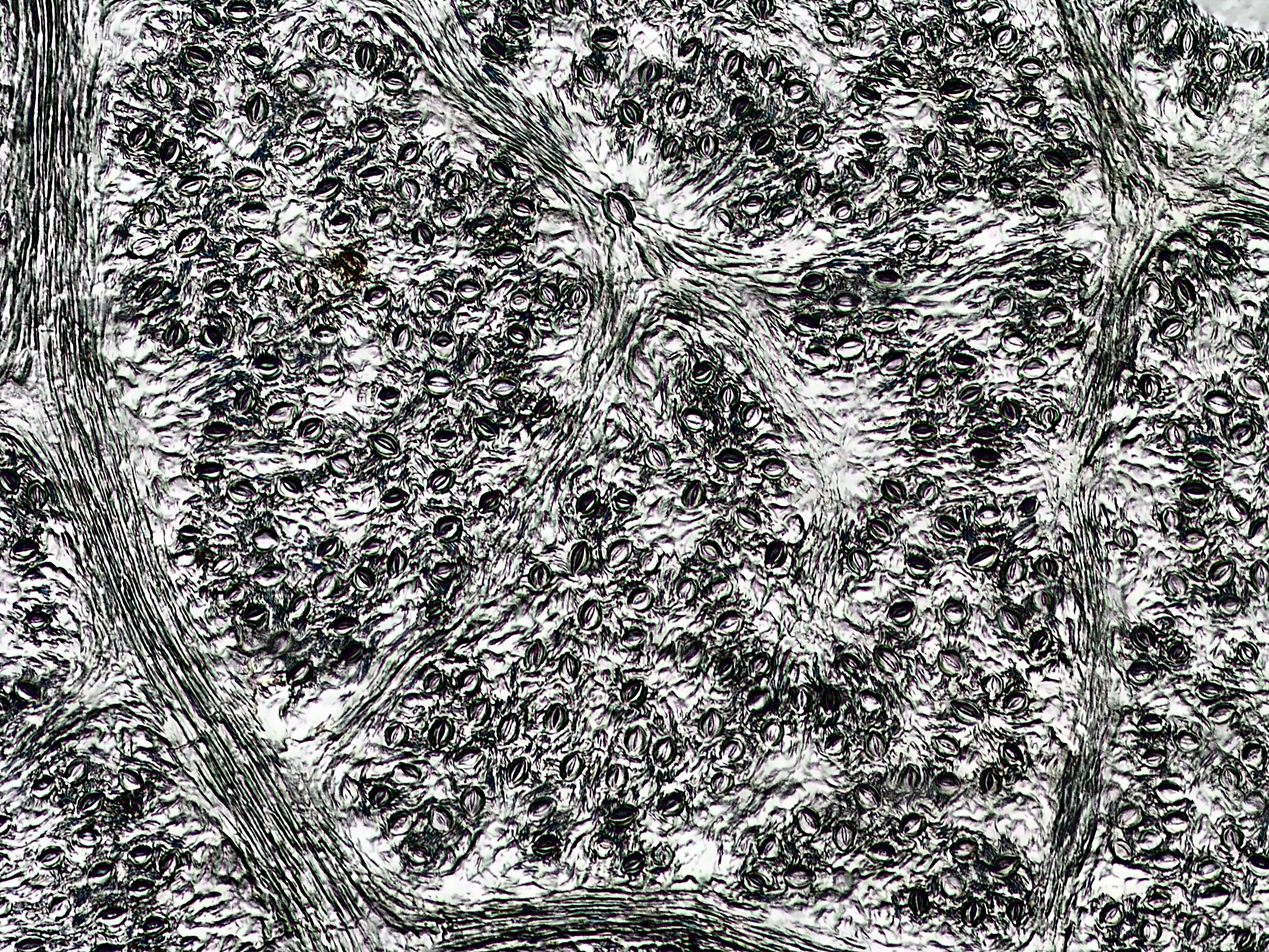stomata: (602, 190, 635, 227), (174, 228, 207, 257), (950, 698, 985, 725), (1202, 390, 1236, 417), (566, 541, 593, 575), (698, 706, 725, 740), (365, 434, 401, 459), (1153, 779, 1186, 806), (714, 446, 747, 473), (1238, 372, 1269, 400), (251, 354, 283, 381), (422, 372, 455, 398), (460, 785, 486, 818), (873, 645, 902, 674), (433, 516, 463, 544), (63, 754, 89, 786), (559, 750, 585, 782), (939, 78, 975, 101), (245, 93, 270, 126), (966, 545, 999, 570), (428, 717, 453, 750), (231, 168, 265, 192), (828, 293, 865, 315), (251, 564, 288, 586), (239, 42, 268, 70), (795, 123, 824, 151), (1183, 917, 1212, 945), (642, 443, 672, 470), (527, 795, 557, 822), (666, 87, 692, 118), (543, 702, 569, 733), (1038, 150, 1071, 174), (1171, 275, 1195, 308), (578, 597, 602, 630), (605, 538, 632, 567), (524, 638, 547, 672), (1032, 193, 1063, 218), (1126, 660, 1157, 685), (681, 479, 706, 510), (651, 736, 676, 767), (998, 606, 1023, 637), (1176, 23, 1198, 58), (356, 117, 388, 141), (976, 138, 1008, 162), (488, 376, 520, 400), (282, 142, 315, 165), (1030, 626, 1053, 659), (138, 202, 165, 230), (887, 600, 915, 627), (266, 630, 294, 657), (852, 783, 880, 810), (191, 4, 220, 30), (146, 70, 172, 99), (617, 98, 643, 127), (1230, 331, 1259, 357), (313, 570, 339, 599), (621, 679, 647, 708), (1208, 241, 1238, 266), (1181, 482, 1211, 507), (905, 555, 935, 580), (494, 243, 524, 268), (426, 469, 456, 494), (714, 609, 744, 634), (991, 854, 1021, 879), (1039, 304, 1070, 328), (25, 479, 49, 510), (1194, 679, 1226, 702), (496, 713, 519, 745), (506, 756, 529, 788), (940, 599, 968, 625), (1187, 449, 1220, 471), (796, 170, 821, 199), (1241, 742, 1266, 771), (380, 487, 409, 512), (893, 174, 923, 198), (835, 336, 865, 360), (1161, 810, 1191, 834), (1201, 886, 1231, 910), (923, 131, 946, 162), (1015, 95, 1046, 118), (228, 481, 259, 504), (624, 723, 647, 754), (784, 866, 815, 889), (1017, 357, 1049, 379), (750, 129, 776, 156), (1164, 421, 1190, 448), (1098, 901, 1125, 927), (611, 487, 637, 514), (938, 650, 965, 676), (992, 23, 1017, 51), (1210, 560, 1235, 588), (163, 322, 188, 350), (688, 361, 716, 386), (846, 547, 871, 575), (252, 528, 280, 553), (760, 718, 785, 746), (1241, 41, 1265, 70), (880, 351, 909, 375), (532, 834, 561, 858), (979, 769, 1003, 798), (818, 21, 848, 44), (1179, 529, 1209, 552), (453, 747, 483, 770), (238, 201, 269, 223), (134, 278, 165, 300), (34, 846, 65, 868), (394, 176, 420, 202), (480, 35, 507, 60), (636, 60, 663, 85), (899, 29, 926, 54), (1163, 571, 1188, 598), (1195, 858, 1222, 883), (681, 407, 708, 432), (428, 806, 453, 833), (998, 742, 1025, 767), (695, 130, 719, 158), (1207, 47, 1231, 75), (1173, 728, 1201, 752), (248, 316, 276, 340), (276, 475, 304, 499), (328, 454, 356, 478), (86, 861, 114, 885), (961, 898, 985, 926), (796, 808, 820, 836), (977, 2, 1006, 25), (1015, 56, 1044, 79), (1116, 806, 1145, 829), (759, 457, 788, 480), (764, 540, 787, 569), (467, 697, 490, 726), (833, 822, 856, 851), (311, 178, 341, 200), (722, 50, 744, 80), (232, 239, 262, 261), (872, 269, 903, 290), (559, 652, 580, 683), (866, 518, 891, 544), (1129, 625, 1155, 650), (250, 267, 276, 292), (198, 324, 223, 350), (466, 349, 492, 374), (298, 417, 324, 442), (287, 659, 312, 685), (387, 810, 413, 835), (745, 689, 771, 714), (189, 97, 216, 121), (288, 68, 315, 92), (354, 42, 378, 69), (829, 200, 856, 224), (473, 416, 500, 440), (30, 775, 57, 799), (478, 488, 505, 512), (627, 588, 654, 612), (934, 771, 961, 795), (678, 36, 701, 64), (295, 270, 318, 298), (340, 251, 368, 274), (12, 680, 40, 703), (116, 769, 144, 792), (576, 489, 599, 517), (1188, 83, 1208, 115), (789, 315, 821, 335), (296, 109, 325, 131), (590, 29, 619, 51), (10, 539, 39, 561), (289, 591, 311, 620), (931, 734, 960, 756), (72, 826, 102, 847), (865, 842, 895, 863), (536, 281, 561, 306), (901, 813, 926, 838), (916, 373, 942, 397), (1226, 498, 1250, 524), (881, 478, 907, 502), (1136, 829, 1162, 853), (738, 193, 764, 217), (527, 564, 551, 590), (698, 539, 722, 565), (651, 843, 677, 867), (782, 80, 809, 103), (730, 95, 753, 122), (411, 221, 434, 248), (267, 402, 294, 425), (385, 721, 408, 748), (606, 763, 629, 790), (867, 729, 887, 760), (185, 45, 213, 67), (577, 60, 599, 88), (1004, 555, 1026, 583), (508, 197, 536, 219), (719, 382, 741, 410), (201, 422, 235, 440), (760, 54, 781, 83), (661, 135, 682, 164), (852, 84, 881, 105), (909, 886, 930, 915), (791, 685, 812, 714), (176, 175, 208, 194), (927, 244, 952, 268), (970, 448, 1000, 468), (1138, 919, 1162, 944), (797, 273, 827, 293), (458, 669, 482, 694), (608, 805, 638, 825), (749, 653, 773, 678), (443, 170, 466, 196), (1127, 11, 1150, 37), (1160, 318, 1186, 341), (1230, 423, 1256, 446), (1217, 764, 1240, 790), (719, 739, 745, 762), (1139, 278, 1162, 304), (503, 12, 530, 34), (1139, 374, 1161, 401), (1142, 888, 1169, 910), (365, 286, 392, 308), (393, 323, 414, 351), (392, 762, 420, 783), (403, 844, 431, 865), (981, 672, 1002, 700), (950, 838, 978, 859), (881, 57, 910, 77), (1024, 279, 1053, 299), (908, 422, 937, 442), (130, 237, 159, 257), (311, 325, 340, 345), (388, 547, 408, 576), (127, 125, 151, 149), (1037, 405, 1061, 429), (1051, 118, 1076, 141), (1032, 589, 1055, 614), (1236, 641, 1259, 666), (1110, 838, 1133, 863), (488, 160, 511, 185), (735, 509, 760, 532), (429, 332, 454, 355), (48, 895, 71, 920), (935, 514, 961, 536), (456, 280, 482, 302), (709, 772, 735, 794), (127, 878, 157, 897), (369, 208, 396, 229), (744, 872, 771, 893), (1137, 714, 1165, 734), (96, 908, 127, 926), (1159, 508, 1182, 532), (425, 290, 448, 314), (506, 323, 530, 346), (353, 566, 376, 590), (675, 577, 698, 601), (709, 579, 732, 603), (22, 612, 51, 631), (331, 616, 360, 635), (821, 685, 840, 714), (1221, 824, 1243, 849), (621, 628, 646, 650), (957, 385, 983, 406), (712, 206, 733, 232), (741, 402, 762, 428), (236, 388, 257, 414), (432, 561, 458, 582), (1003, 692, 1029, 713), (161, 138, 181, 165), (935, 174, 965, 192), (900, 234, 927, 254), (975, 506, 1002, 526), (1208, 703, 1235, 723), (315, 365, 342, 385), (159, 853, 179, 880), (339, 774, 358, 802), (440, 205, 463, 228), (1036, 556, 1058, 580), (917, 480, 939, 504), (423, 669, 445, 693), (944, 24, 969, 45), (1015, 496, 1040, 517), (143, 915, 168, 936), (638, 548, 659, 573), (428, 429, 457, 447), (319, 27, 339, 53), (77, 792, 103, 812), (873, 314, 900, 333), (196, 462, 223, 481), (1005, 899, 1024, 926), (857, 131, 889, 147), (398, 141, 421, 163), (867, 206, 889, 229), (775, 204, 797, 227), (377, 386, 400, 408), (840, 652, 863, 674), (992, 178, 1020, 196), (1217, 595, 1241, 616), (241, 604, 269, 622), (946, 113, 977, 129), (1140, 749, 1166, 768), (901, 766, 920, 792), (357, 167, 386, 184), (1063, 253, 1092, 270), (470, 216, 497, 234), (848, 159, 870, 181), (369, 786, 391, 808), (1012, 130, 1035, 151), (1167, 641, 1190, 662), (510, 292, 531, 315), (860, 690, 883, 711), (1113, 529, 1137, 549), (328, 213, 352, 233), (317, 537, 341, 557), (381, 73, 406, 92), (127, 845, 152, 864), (659, 796, 684, 815), (972, 425, 998, 443), (948, 354, 977, 370), (992, 293, 1014, 314), (534, 397, 556, 418), (622, 852, 642, 875), (205, 280, 229, 299), (213, 556, 238, 574), (1000, 400, 1020, 422), (567, 285, 587, 307), (824, 732, 844, 754), (592, 839, 616, 857), (359, 537, 384, 554), (225, 586, 246, 606), (1002, 334, 1025, 352), (759, 837, 778, 858), (426, 599, 446, 618), (340, 645, 365, 660), (716, 658, 733, 680), (177, 524, 200, 540)
